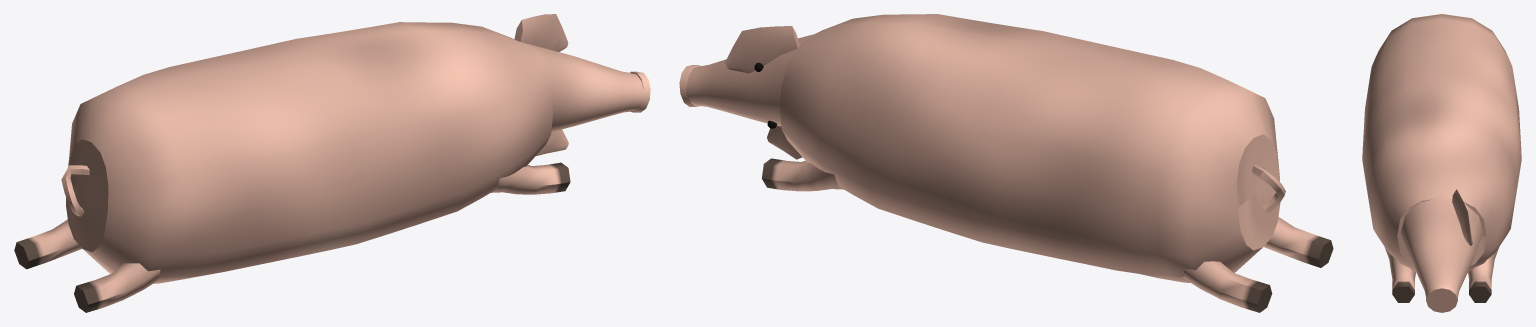
File: tpl_life_pigs_1850_pig_landvarken_lie.glb
3 views of the same model, side by side, from view 1: azimuth 30°, elevation 25°; view 2: azimuth 150°, elevation 25°; view 3: azimuth 270°, elevation 25° (orthographic). The views are drawn at different scales.
Visible parts, largest first — view 1: tpl_life_pigs_1850_pig_landvarken_lie; view 2: tpl_life_pigs_1850_pig_landvarken_lie; view 3: tpl_life_pigs_1850_pig_landvarken_lie.
Part boxes in pixels (x1,y1,x2,y2): tpl_life_pigs_1850_pig_landvarken_lie: [14, 14, 650, 312]; tpl_life_pigs_1850_pig_landvarken_lie: [679, 14, 1333, 312]; tpl_life_pigs_1850_pig_landvarken_lie: [1362, 14, 1521, 312].
Size of the model in its own units: 1.66 by 0.4789 by 0.4992.
2 materials, 1 textured.
